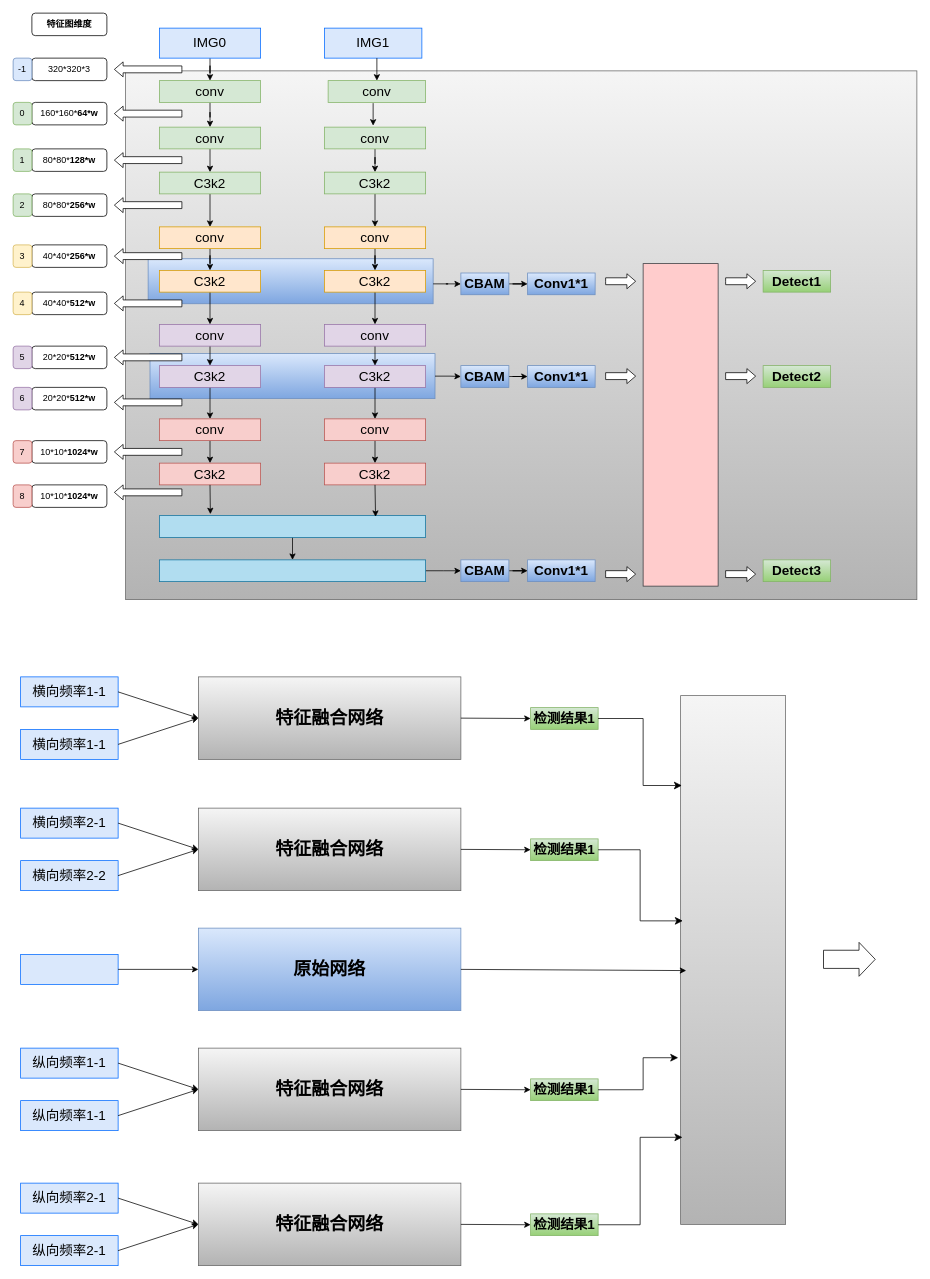
The diagram is 930 pixels wide and 1279 high, and some of its shapes have lost their labels. Each missing label, with the centre of its shape:
"C2PSA" belongs at (292,570).
"FPN PAN" belongs at (680,424).
"SPPF" belongs at (292,526).
"决策融合" belongs at (733,959).
"白光" belongs at (69,969).
